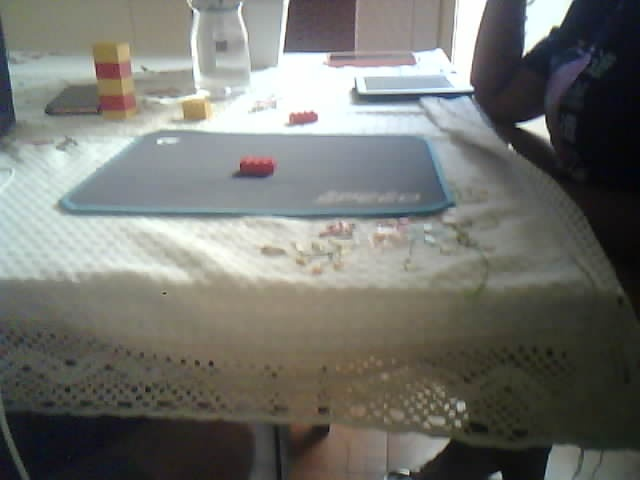lego: (92, 41, 136, 119), (181, 98, 215, 122), (238, 155, 276, 175), (288, 110, 318, 125)
